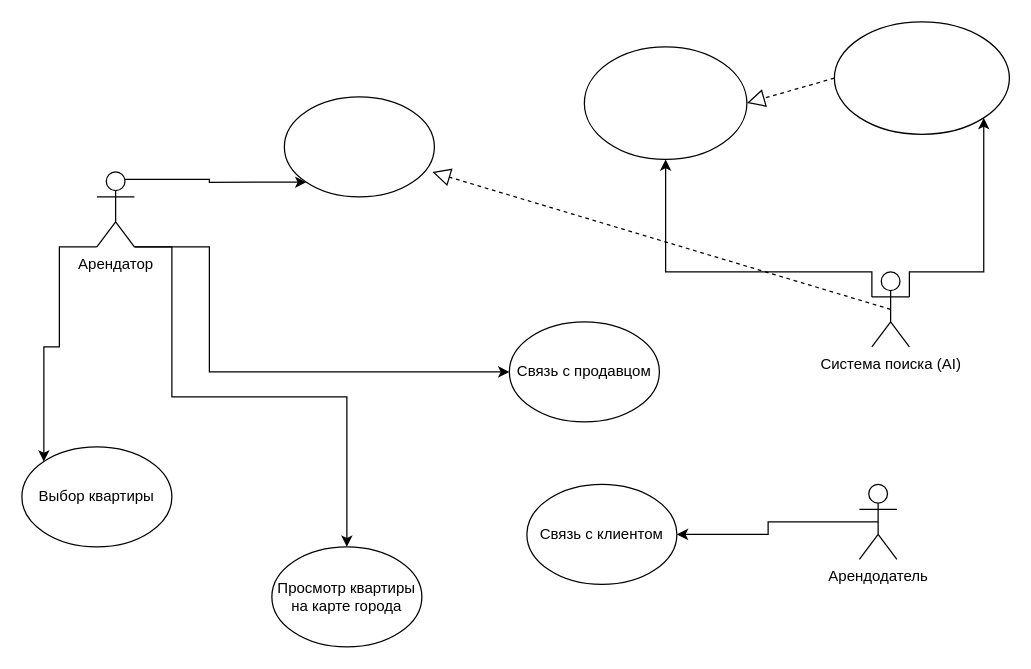
This 1031x669 diagram has some shape labels left out. Each missing label, with the box of its shape:
Использовать AI для глубинного анализа предложений рынка: (833, 21, 1009, 134)
Парсинг данных на вебсайтах недвижимости: (583, 46, 747, 159)
Поиск квартиры по любым критериям: (283, 96, 434, 197)
